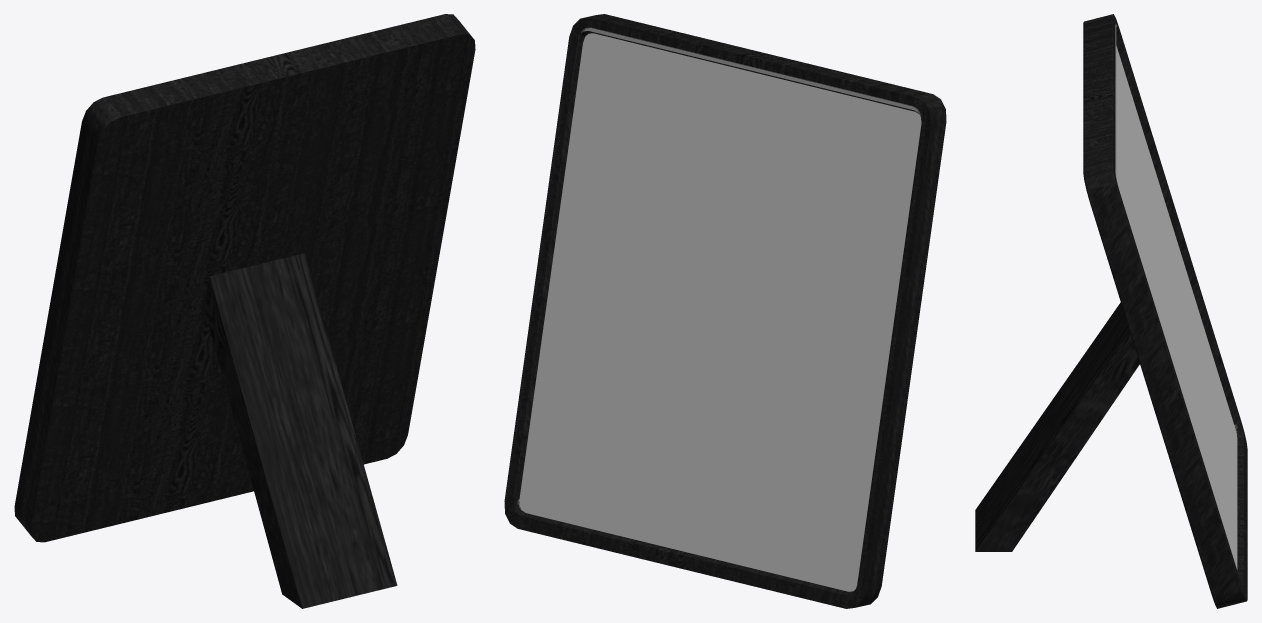
Rendered from SMALL PHOTO.fbx.
3 renders of one model, left to right at view 1: azimuth 30°, elevation 25°; view 2: azimuth 150°, elevation 25°; view 3: azimuth 270°, elevation 25°, orthographic. The views are drawn at different scales.
Parts seen in each view (by area): view 1: SMALL PHOTO; view 2: SMALL PHOTO; view 3: SMALL PHOTO.
Part boxes in pixels (left/top/right/bottom): SMALL PHOTO: left=14, top=14, right=475, bottom=608; SMALL PHOTO: left=504, top=14, right=946, bottom=608; SMALL PHOTO: left=975, top=14, right=1247, bottom=608.
Size of the model in its own units: 0.3284 by 0.2266 by 0.4053.
